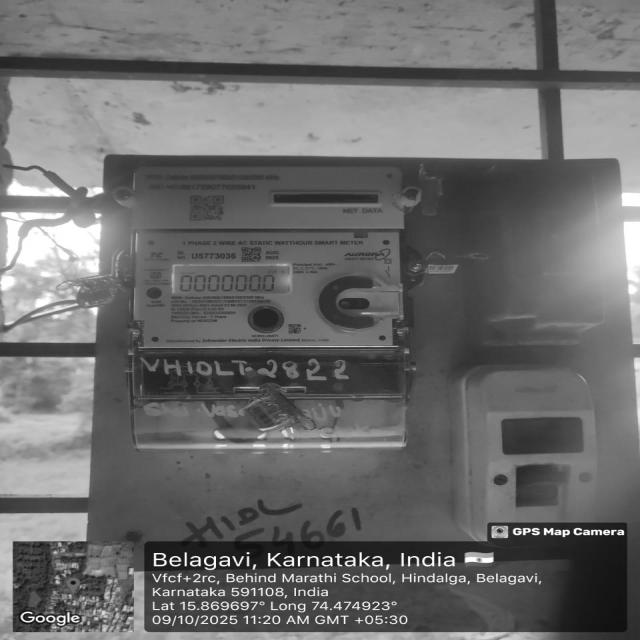meter: (129, 168, 407, 347)
